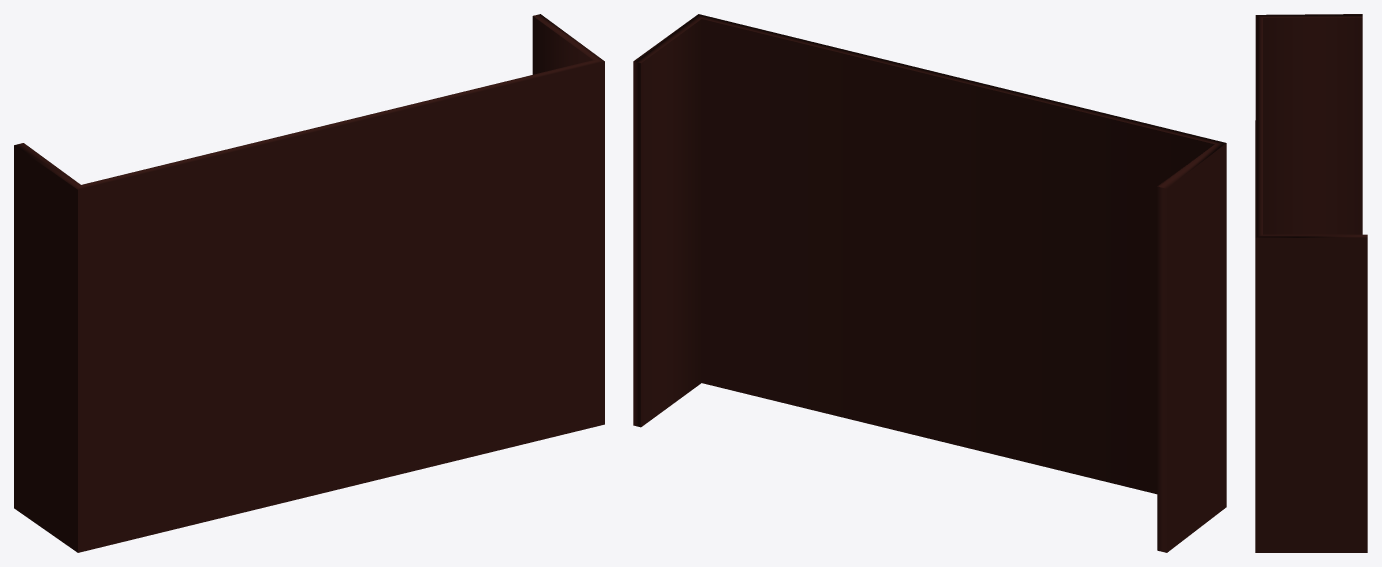
Rendered from c_bwall.fbx.
The picture shows the model from 3 angles, left to right: view 1: azimuth 30°, elevation 25°; view 2: azimuth 150°, elevation 25°; view 3: azimuth 270°, elevation 25°; orthographic projection. The views are drawn at different scales.
Parts seen in each view (by area): view 1: cafeteria_bwall; view 2: cafeteria_bwall; view 3: cafeteria_bwall.
Part boxes in pixels (x1,y1,x2,y2): cafeteria_bwall: (14, 14, 604, 552); cafeteria_bwall: (633, 14, 1226, 552); cafeteria_bwall: (1255, 14, 1367, 552).
Bounding box in the file's own units: 443 × 291 × 93.84.
